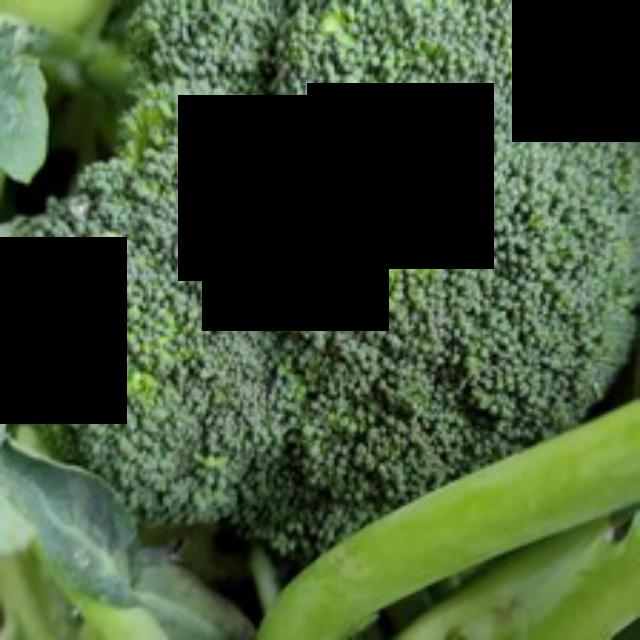broccoli: (23, 0, 637, 557)
